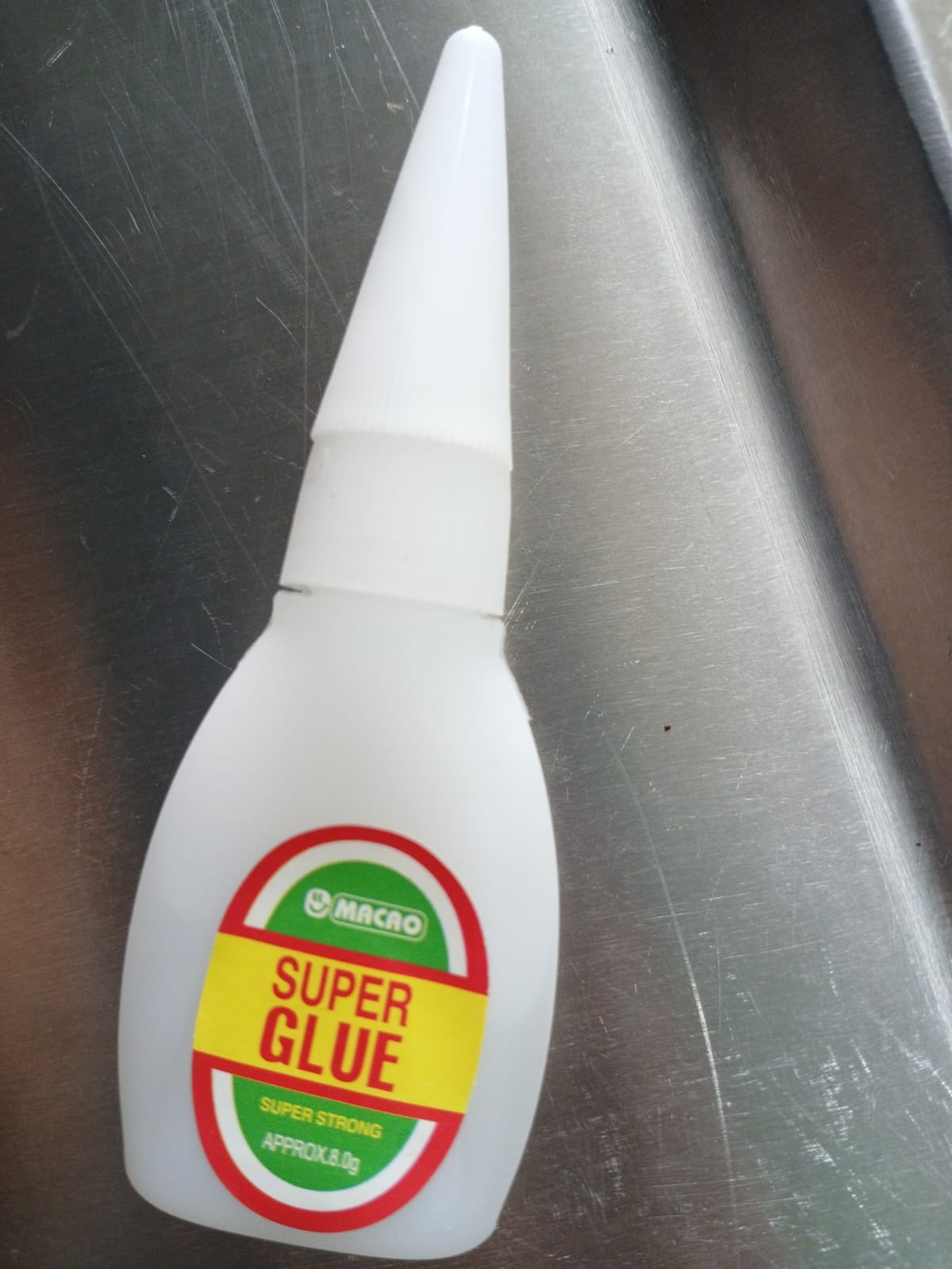Plastico: (117, 25, 559, 1258)
